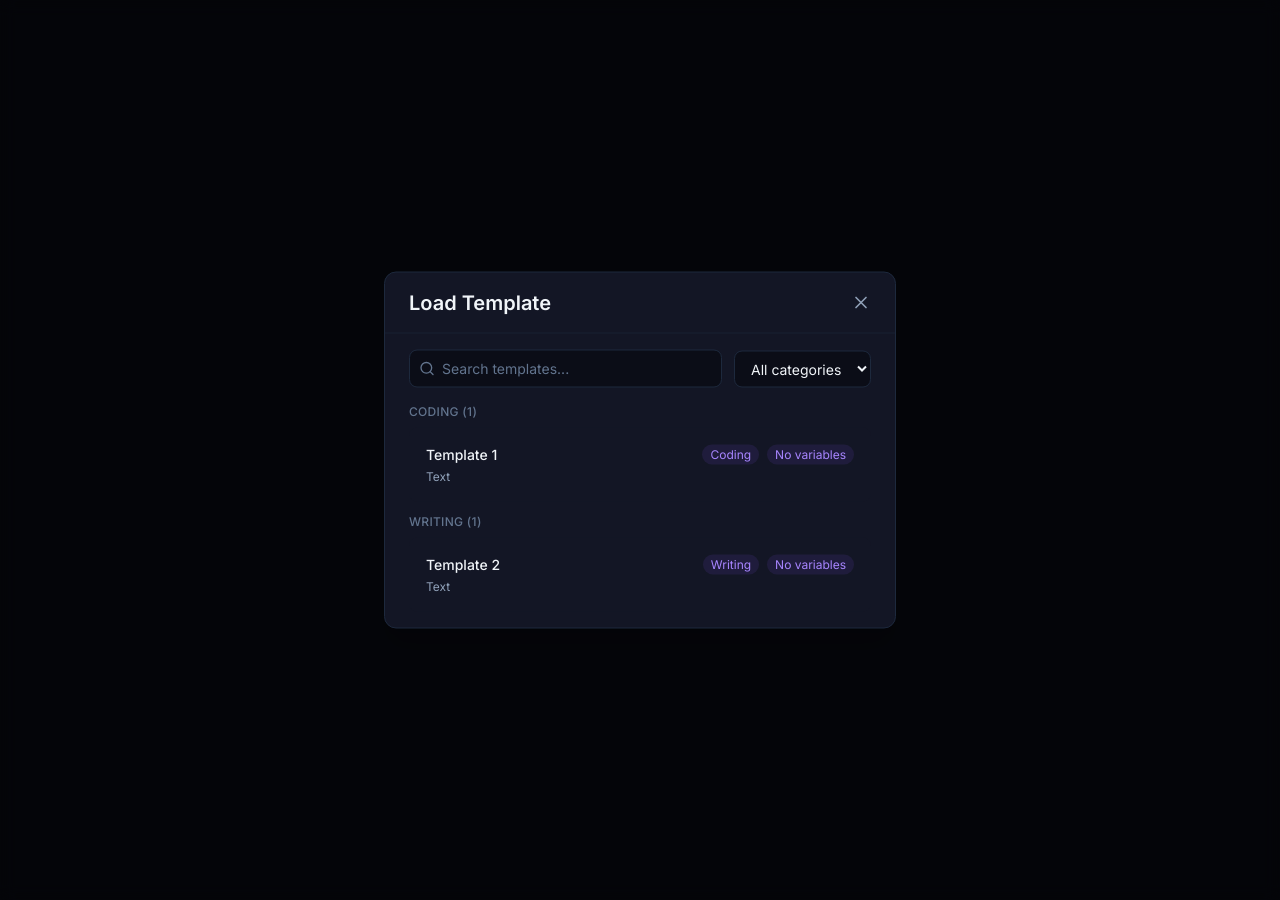
Test case: TemplatePicker › category filter dropdown (TC-P-03)
The image size is (1280, 900).
Select "Coding" in the dropdown showing "All categories" at [802, 368], box [734,350,871,387]
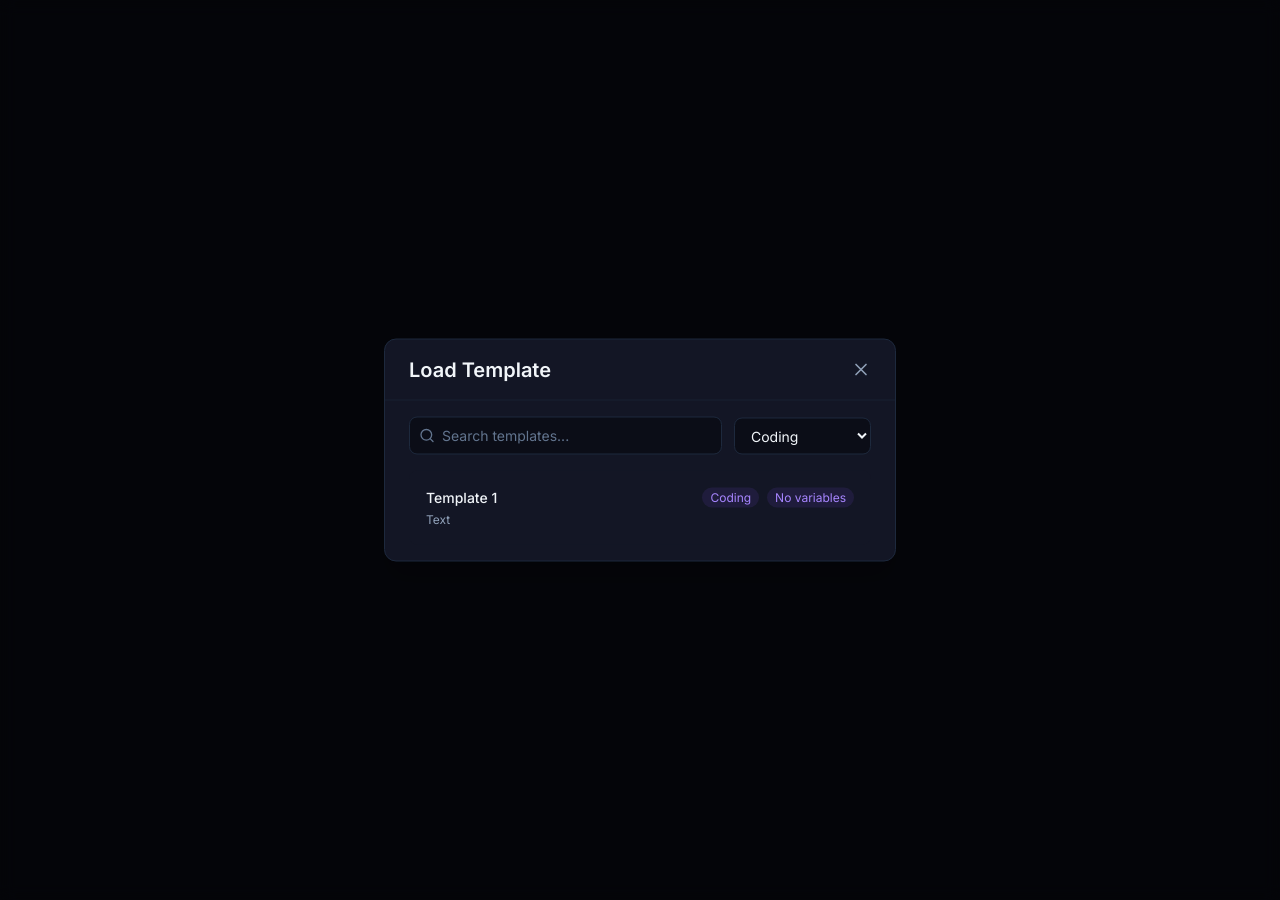
Expected: the text "Template 1" is shown, [426,488,497,506]
Result: the button "Template 2" is gone
